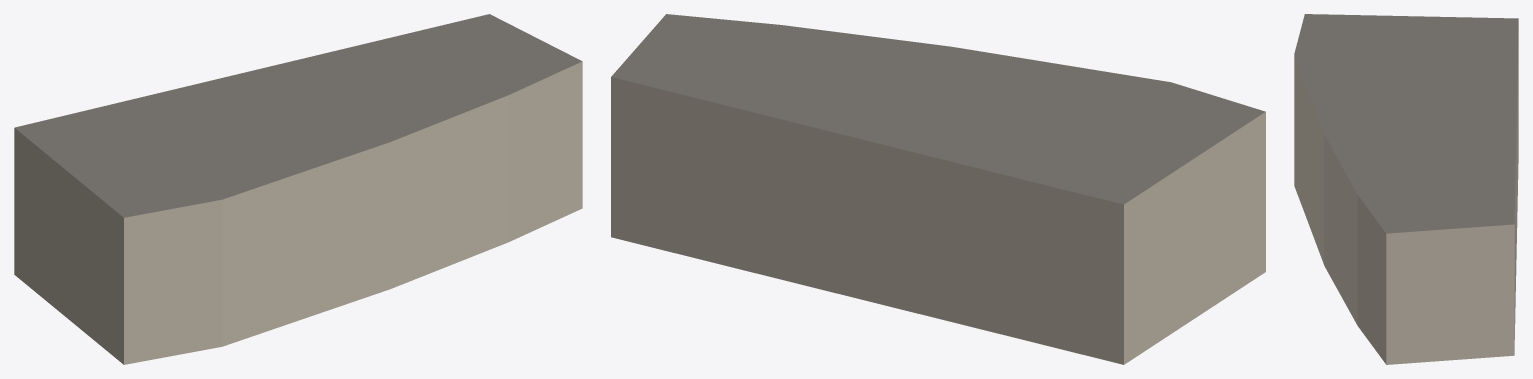
3 renders of one model, left to right at view 1: azimuth 30°, elevation 25°; view 2: azimuth 150°, elevation 25°; view 3: azimuth 270°, elevation 25°, orthographic. The views are drawn at different scales.
Parts seen in each view (by area): view 1: HP-w1515071139; view 2: HP-w1515071139; view 3: HP-w1515071139.
Boxes of the visible parts, <box> form: HP-w1515071139: <box>14,14,582,364</box>; HP-w1515071139: <box>611,14,1265,364</box>; HP-w1515071139: <box>1294,14,1518,364</box>.
Bounding box in the file's own units: 64.56 × 18 × 27.9.
